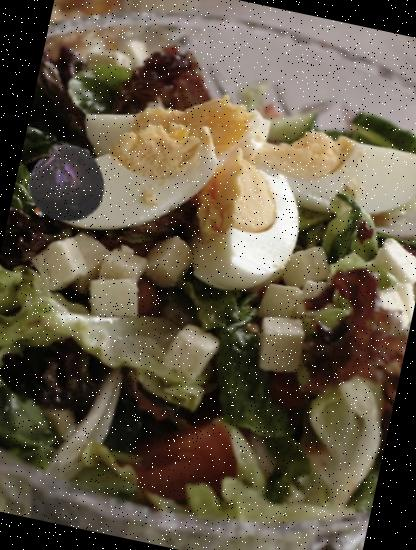Passion: (18, 137, 115, 234)
